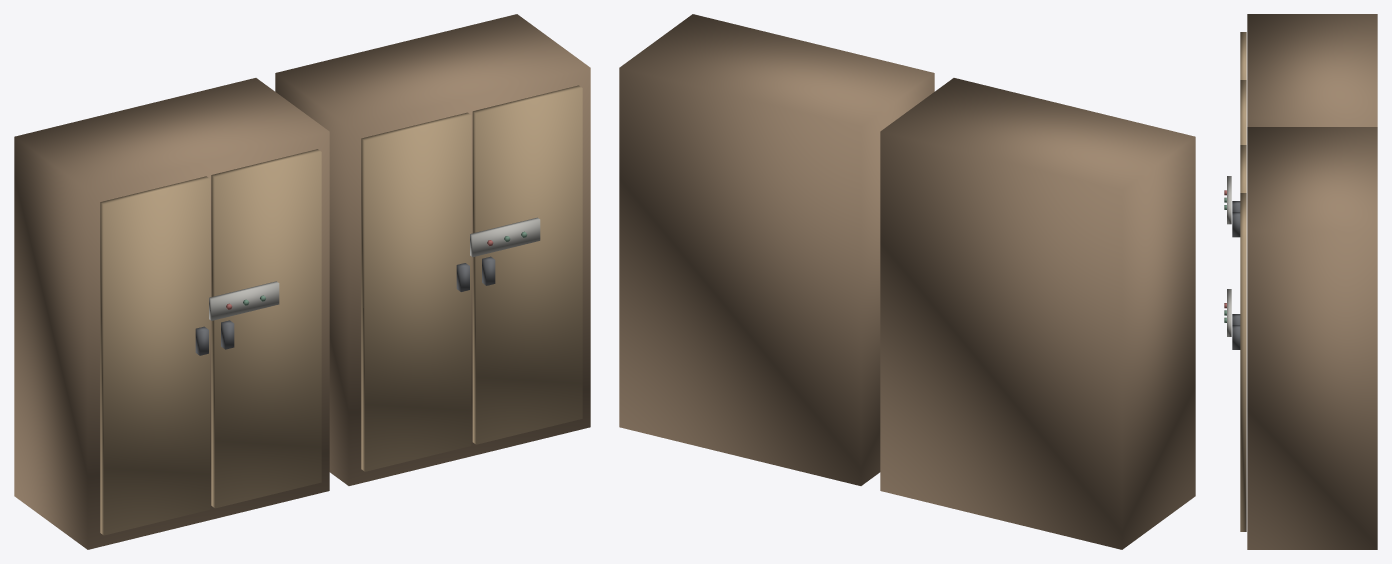
Rendered from kitchen_wall_cabinet__cluster.glb.
3 views of the same model, side by side, from view 1: azimuth 30°, elevation 25°; view 2: azimuth 150°, elevation 25°; view 3: azimuth 270°, elevation 25° (orthographic). The views are drawn at different scales.
Parts seen in each view (by area): view 1: world; view 2: world; view 3: world.
Part boxes in pixels (x1,y1,x2,y2): world: [14, 14, 590, 549]; world: [619, 14, 1195, 549]; world: [1224, 14, 1377, 549].
Bounding box in the file's own units: 1.98 × 1.35 × 0.5885.
